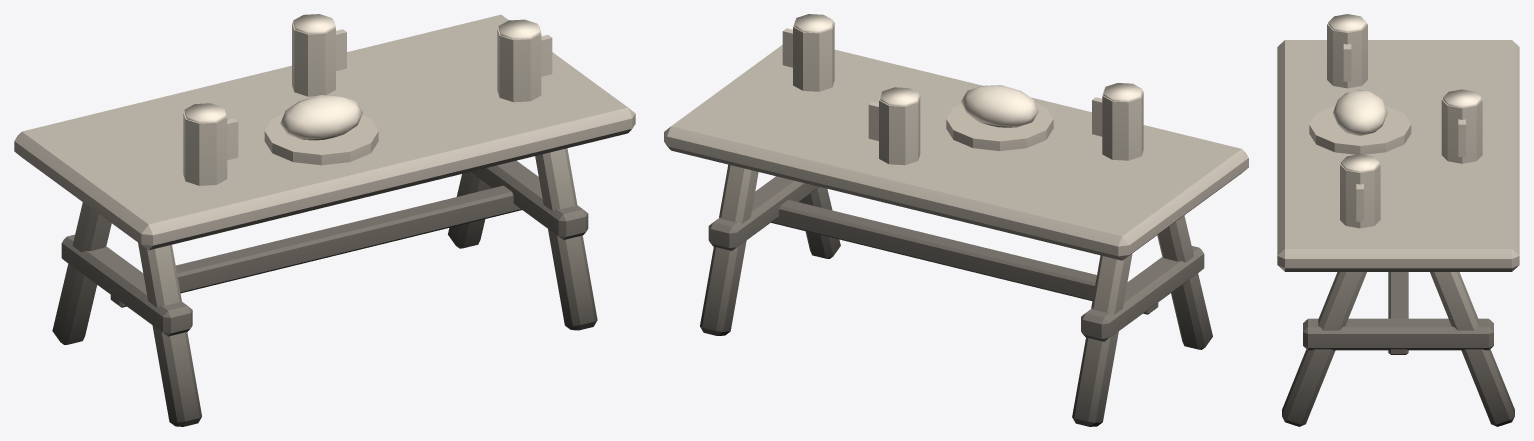
Rendered from SM_VK_Prop_Table.fbx.
3 renders of one model, left to right at view 1: azimuth 30°, elevation 25°; view 2: azimuth 150°, elevation 25°; view 3: azimuth 270°, elevation 25°, orthographic. The views are drawn at different scales.
Visible parts, largest first — view 1: SM_VK_Prop_Table.001; view 2: SM_VK_Prop_Table.001; view 3: SM_VK_Prop_Table.001.
Boxes of the visible parts, box(x1,y1,x2,y2) form: SM_VK_Prop_Table.001: box(14, 14, 635, 426); SM_VK_Prop_Table.001: box(664, 14, 1248, 426); SM_VK_Prop_Table.001: box(1277, 14, 1519, 426).
Size of the model in its own units: 2 by 1.09 by 0.95.
